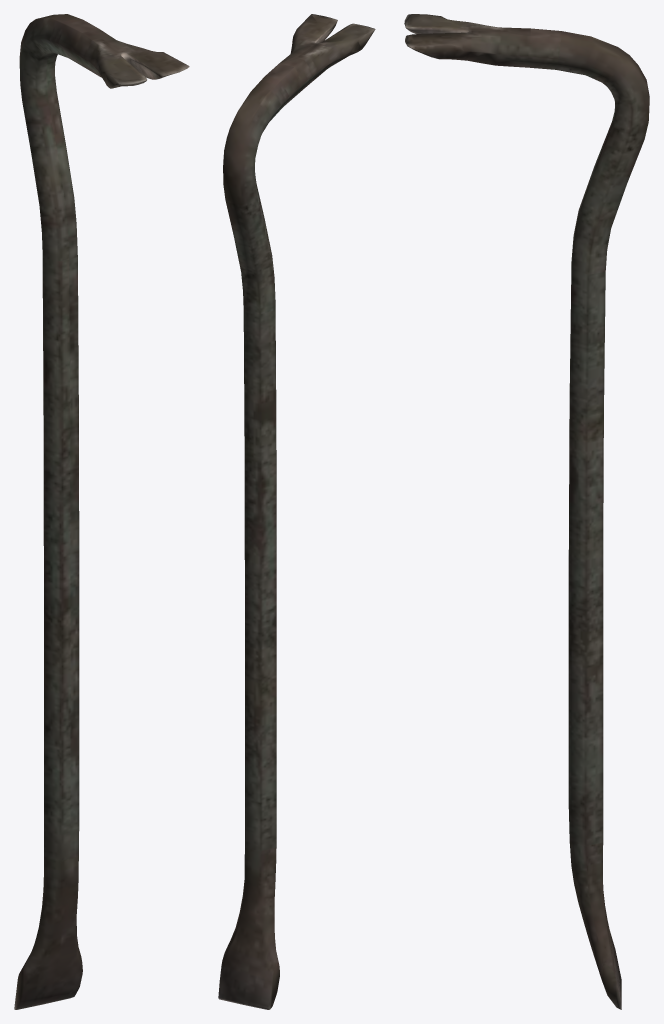
File: crowbar.glb
3 views of the same model, side by side, from view 1: azimuth 30°, elevation 25°; view 2: azimuth 150°, elevation 25°; view 3: azimuth 270°, elevation 25° (orthographic). The views are drawn at different scales.
Parts seen in each view (by area): view 1: crowbar; view 2: crowbar; view 3: crowbar.
Boxes of the visible parts, x1=… form: crowbar: x1=14, y1=14, x2=189, y2=1009; crowbar: x1=218, y1=14, x2=375, y2=1009; crowbar: x1=404, y1=14, x2=649, y2=1009.
Bounding box in the file's own units: 0.0404 × 0.5553 × 0.1276.
1 material, 1 textured.
